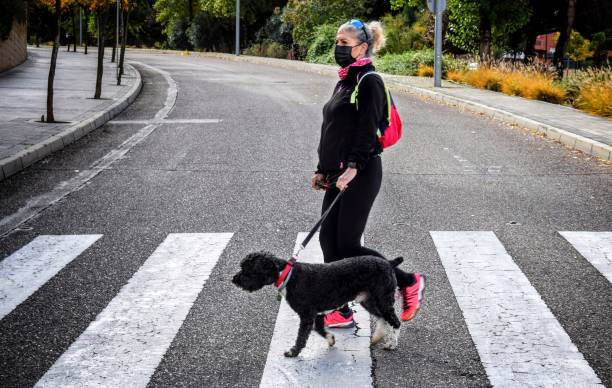kopek: (219, 245, 419, 367)
yaya: (284, 11, 402, 253)
